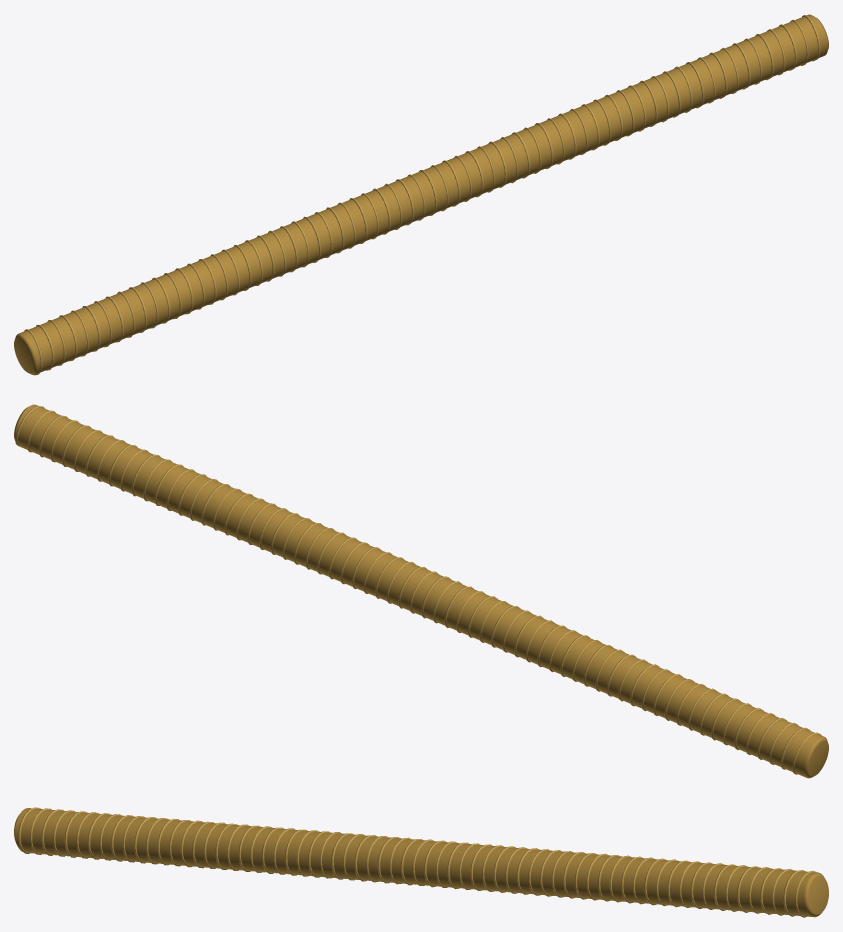
The model's file is through-rod.glb.
3 views of the same model, one above another, from view 1: azimuth 30°, elevation 25°; view 2: azimuth 150°, elevation 25°; view 3: azimuth 330°, elevation 25° (orthographic).
Parts seen in each view (by area): view 1: bom-illustration-through-rod; view 2: bom-illustration-through-rod; view 3: bom-illustration-through-rod.
Part boxes in pixels (left/top/right/bottom): bom-illustration-through-rod: left=14, top=14, right=828, bottom=375; bom-illustration-through-rod: left=14, top=404, right=828, bottom=778; bom-illustration-through-rod: left=14, top=807, right=828, bottom=917.
Bounding box in the file's own units: 95.4 × 19.82 × 6.03.
